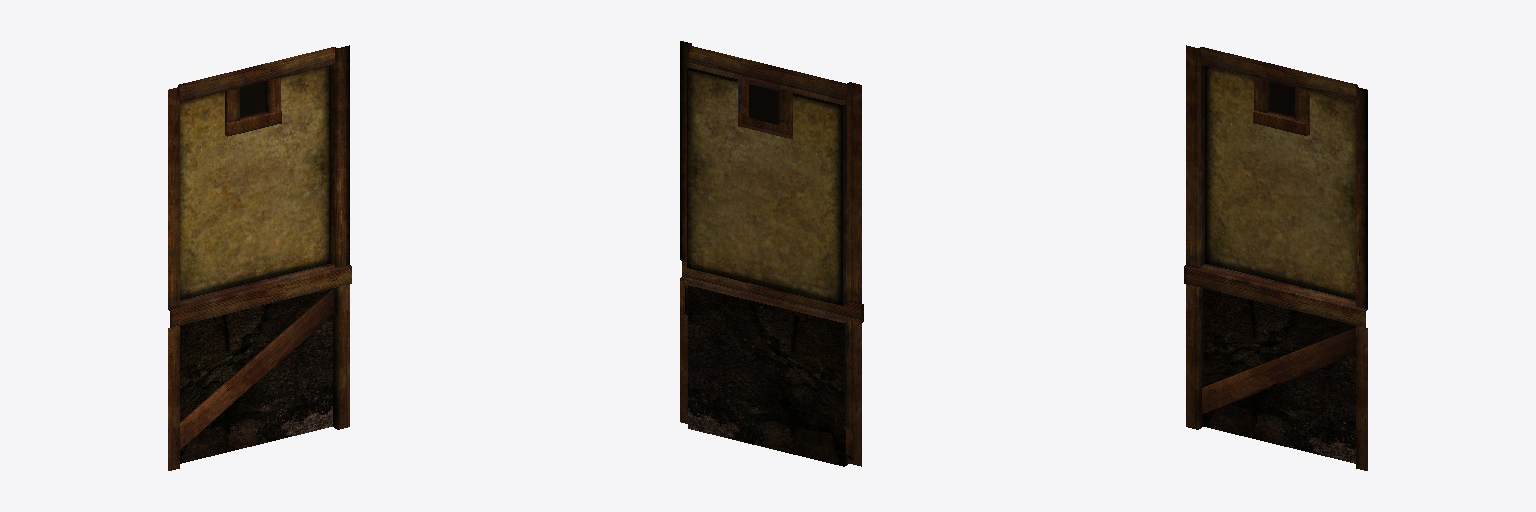
3 renders of one model, left to right at view 1: azimuth 30°, elevation 25°; view 2: azimuth 150°, elevation 25°; view 3: azimuth 330°, elevation 25°, orthographic.
Visible parts, largest first — view 1: Wall001_M021; view 2: Wall001_M021; view 3: Wall001_M021.
Part boxes in pixels (x1,y1,x2,y2): Wall001_M021: (168,45,351,470); Wall001_M021: (680,41,863,466); Wall001_M021: (1184,45,1367,470).
Size of the model in its own units: 128 by 256 by 11.85.
Materials: 1 (1 with a texture image).